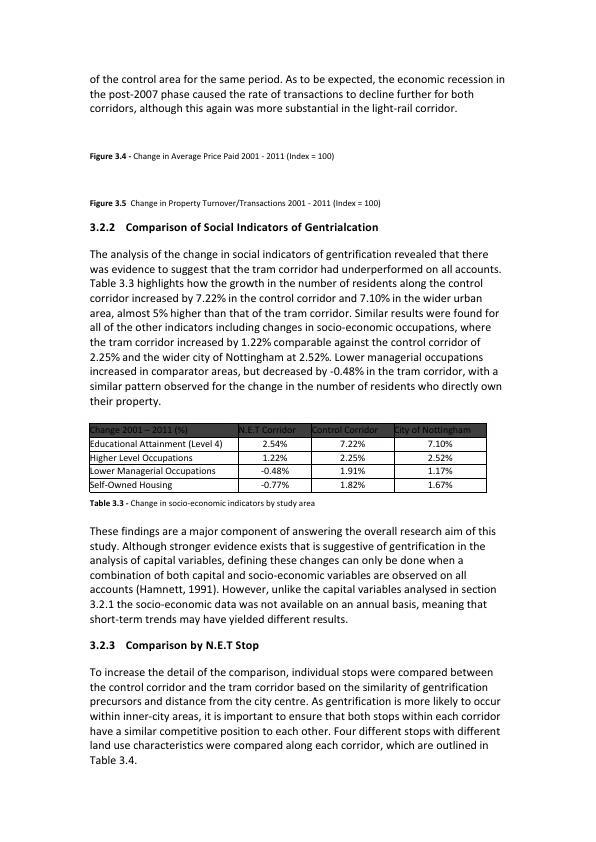table: (88, 422, 487, 493)
text: (88, 246, 504, 408), (88, 522, 500, 628), (88, 665, 504, 766), (86, 72, 508, 115), (87, 196, 384, 210), (87, 221, 381, 234), (85, 149, 340, 163), (87, 498, 315, 508), (87, 639, 259, 652)
